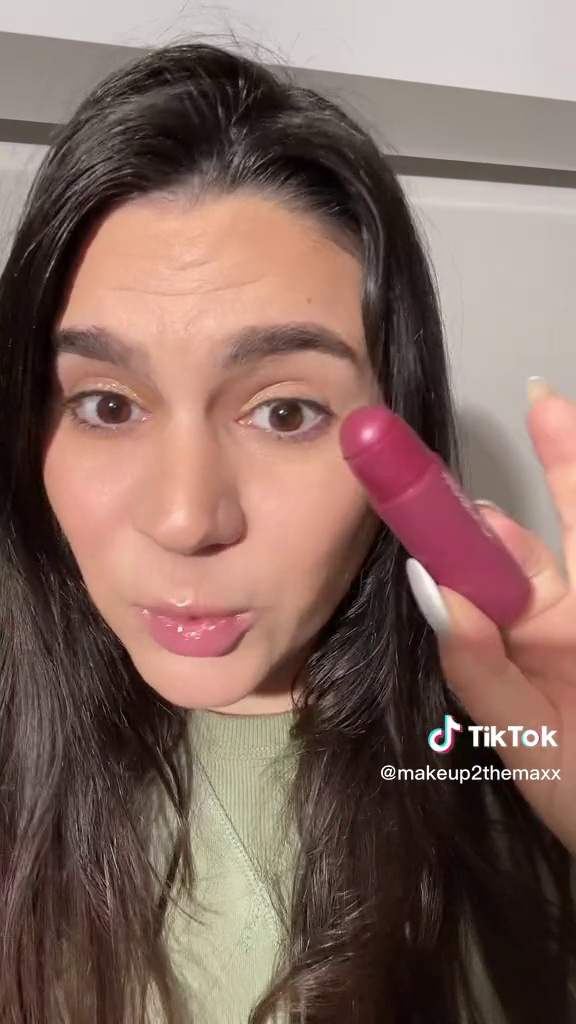train' :'yolo_data/train/images',: (329, 398, 546, 638)
